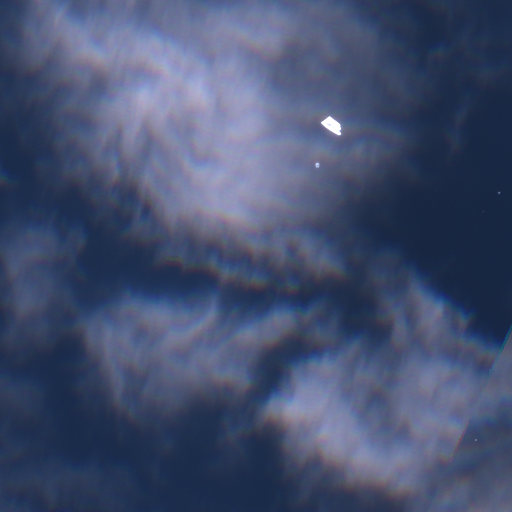Iceberg: (321, 116, 341, 135), (315, 163, 319, 167), (498, 192, 500, 193), (475, 439, 476, 440)
